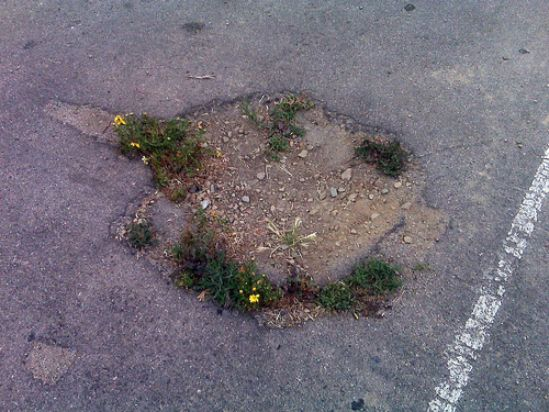pothole: (42, 88, 452, 326)
